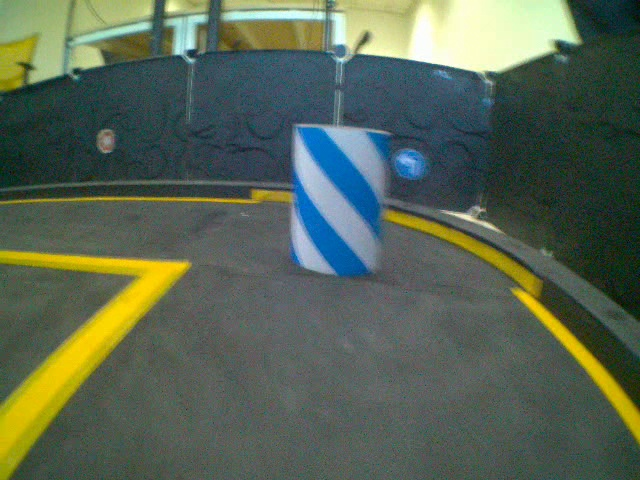bucket: (289, 120, 382, 276)
